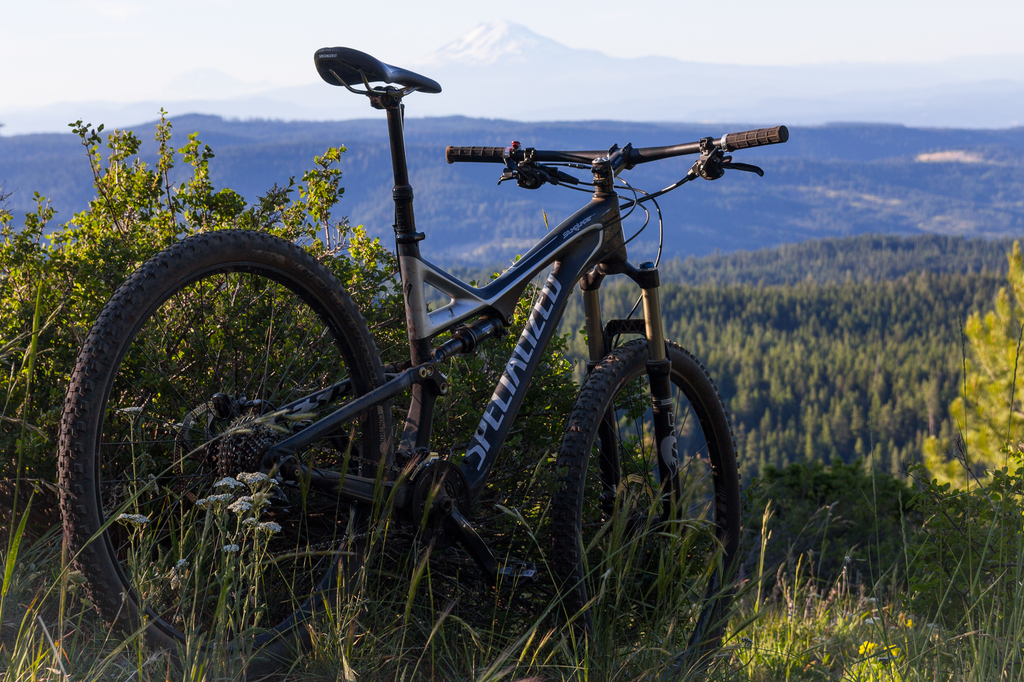Bike_away: (80, 72, 805, 682)
